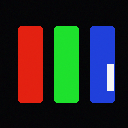4 line_v: (107, 64, 113, 90)
